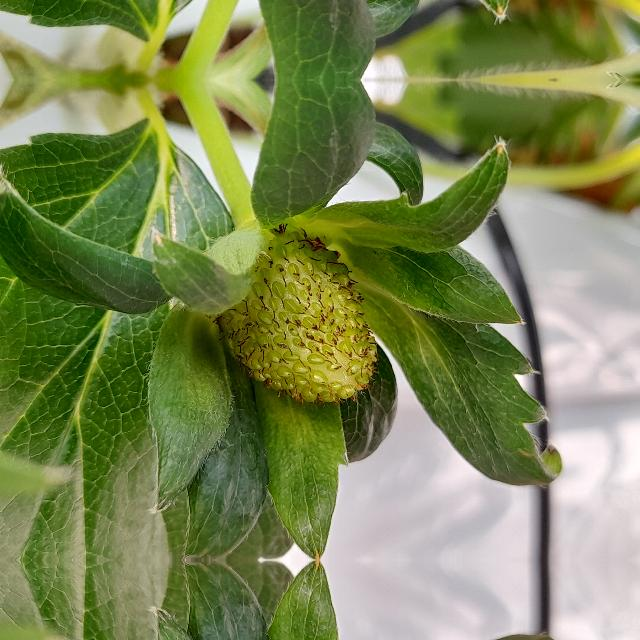Health_25: (212, 222, 376, 406)
